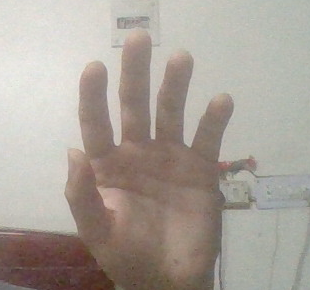move: (57, 27, 244, 274)
